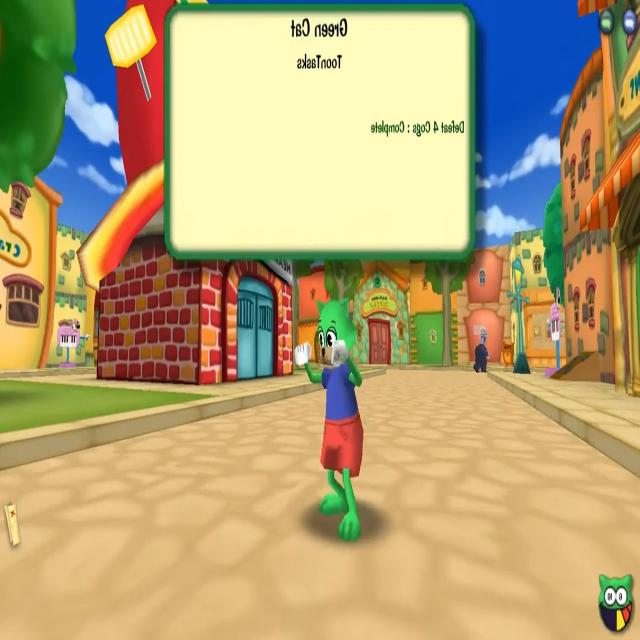bottomfeeder: (471, 324, 490, 374)
